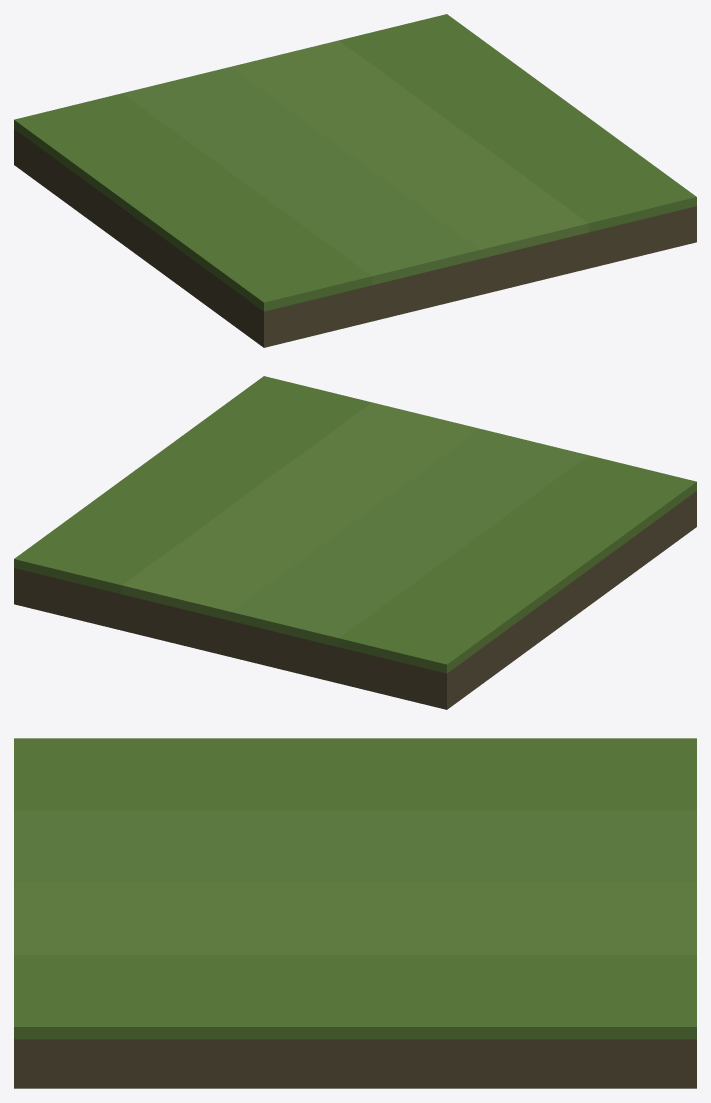
Rendered from lawn.glb.
3 views of the same model, one above another, from view 1: azimuth 30°, elevation 25°; view 2: azimuth 150°, elevation 25°; view 3: azimuth 270°, elevation 25° (orthographic). The views are drawn at different scales.
Visible parts, largest first — view 1: raised-surface; view 2: raised-surface; view 3: raised-surface.
Boxes of the visible parts, box(x1,y1,x2,y2) form: raised-surface: box(14, 14, 696, 347); raised-surface: box(14, 376, 696, 709); raised-surface: box(14, 738, 696, 1088).
Size of the model in its own units: 1 by 0.1 by 1.
